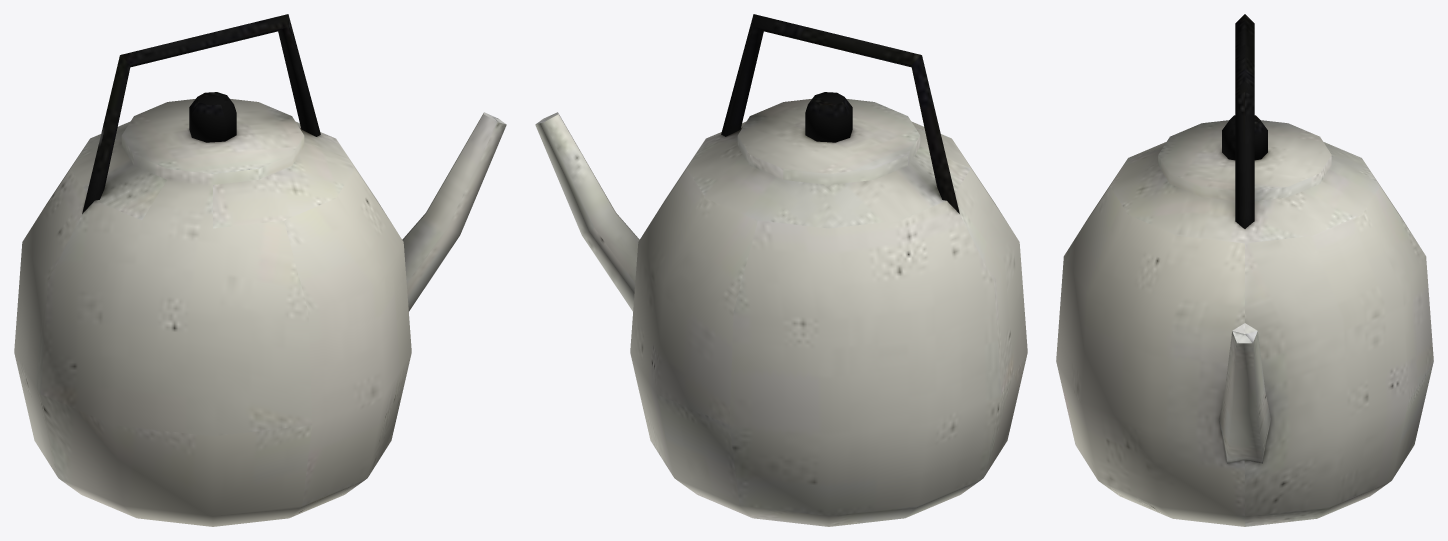
Rendered from kettle_lod1_web.glb.
3 views of the same model, side by side, from view 1: azimuth 30°, elevation 25°; view 2: azimuth 150°, elevation 25°; view 3: azimuth 270°, elevation 25° (orthographic). The views are drawn at different scales.
Visible parts, largest first — view 1: Kettle_Body; view 2: Kettle_Body; view 3: Kettle_Body.
Boxes of the visible parts, left/top/right/bottom form: Kettle_Body: left=14, top=14, right=506, bottom=526; Kettle_Body: left=535, top=14, right=1027, bottom=526; Kettle_Body: left=1056, top=14, right=1433, bottom=526.
Size of the model in its own units: 0.2629 by 0.234 by 0.196.
Materials: 1 (1 with a texture image).
